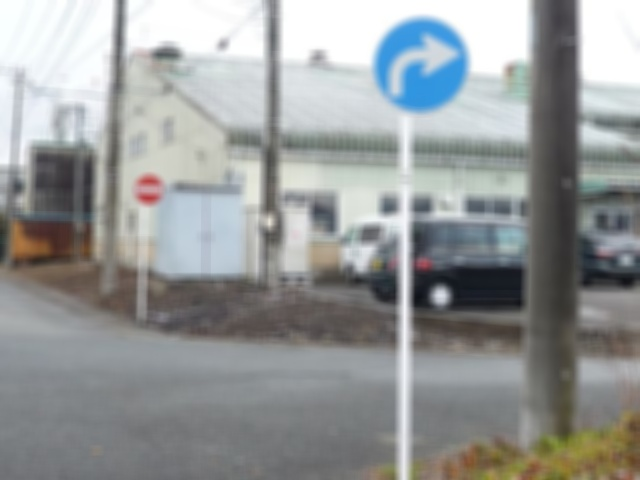Direction_sign: (373, 16, 479, 113)
